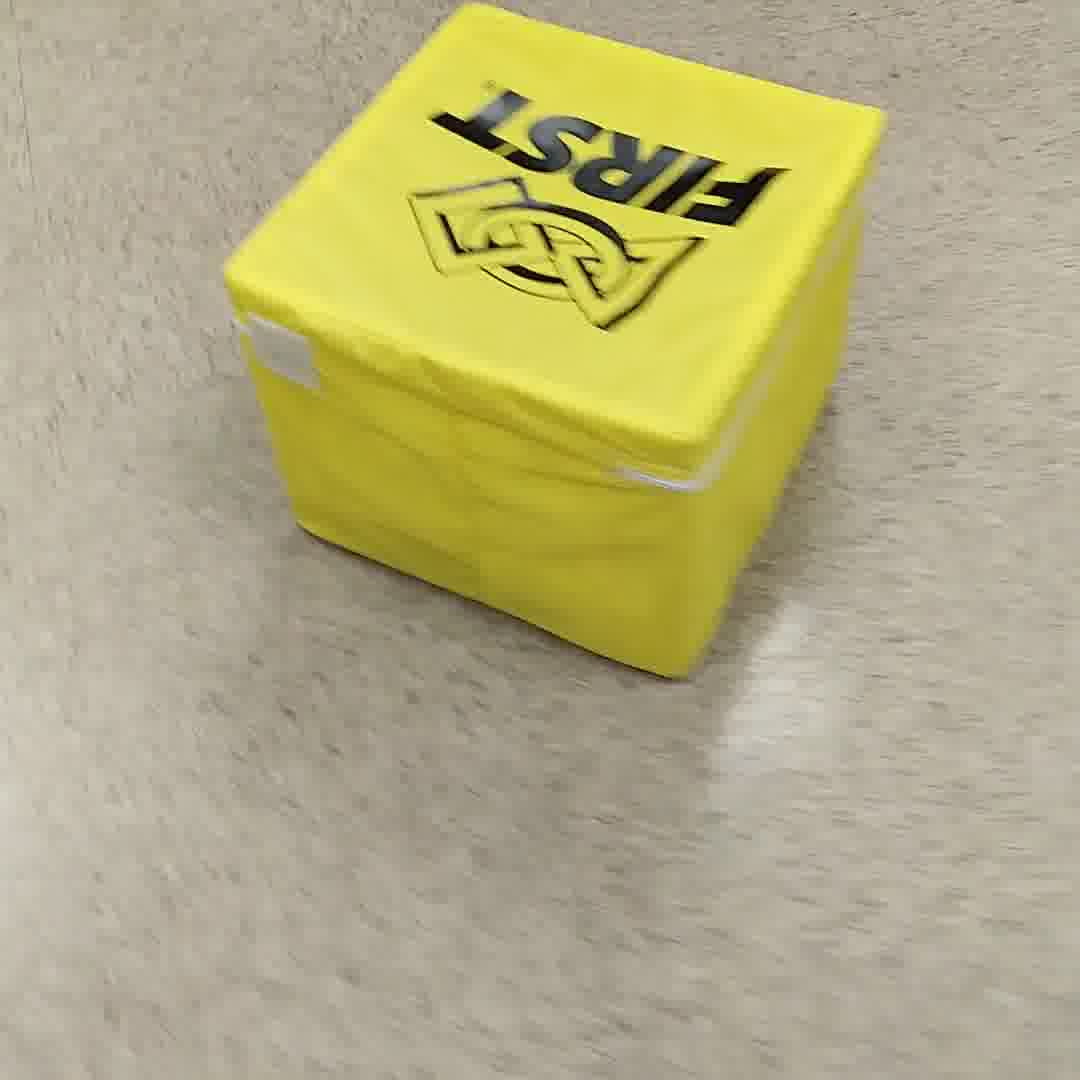box: (208, 3, 895, 684)
